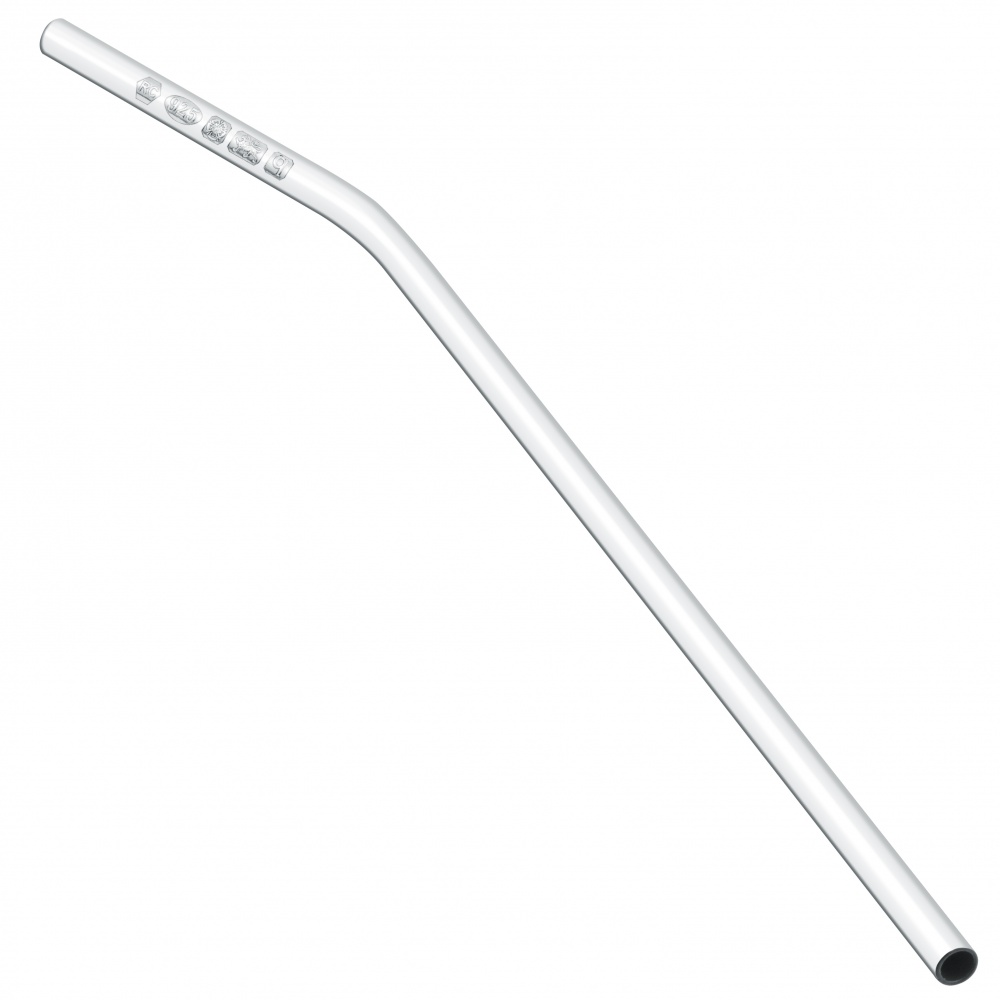Drinking Straw: (35, 14, 984, 989)
